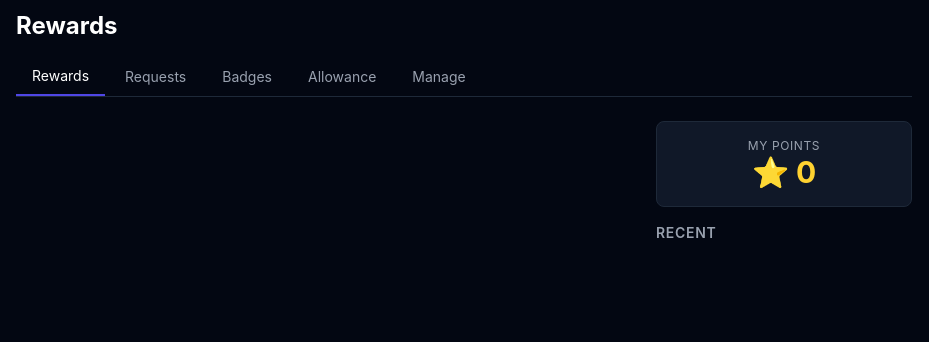
Test: RewardsPage › Requests › shows the server's reason when a decision fails
Step 1. Click the tab "Requests" → (156, 77), box [109,58,202,96]
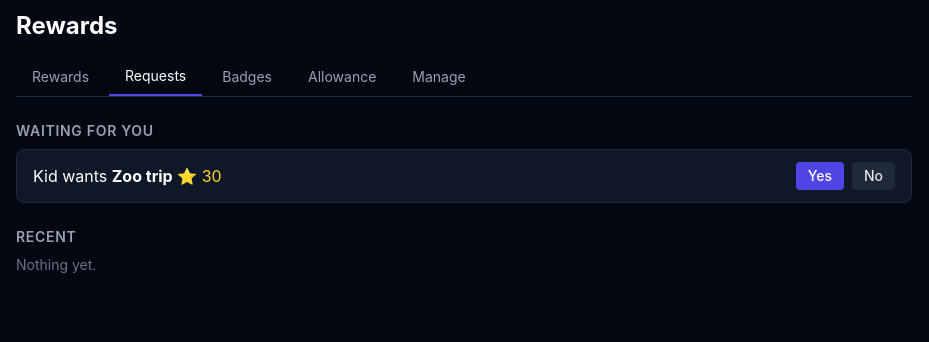
Step 2. Click the button with aria-label "Approve: Zoo trip" → (820, 176), box [796,162,844,190]
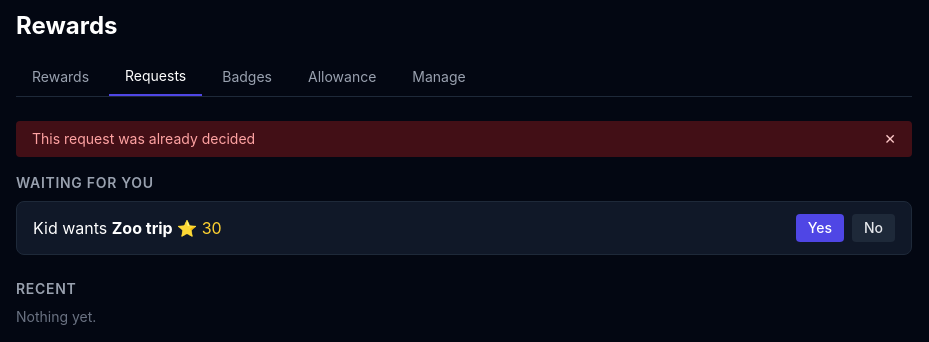
Now the text "This request was already decided" is shown, box [32,129,255,149]
